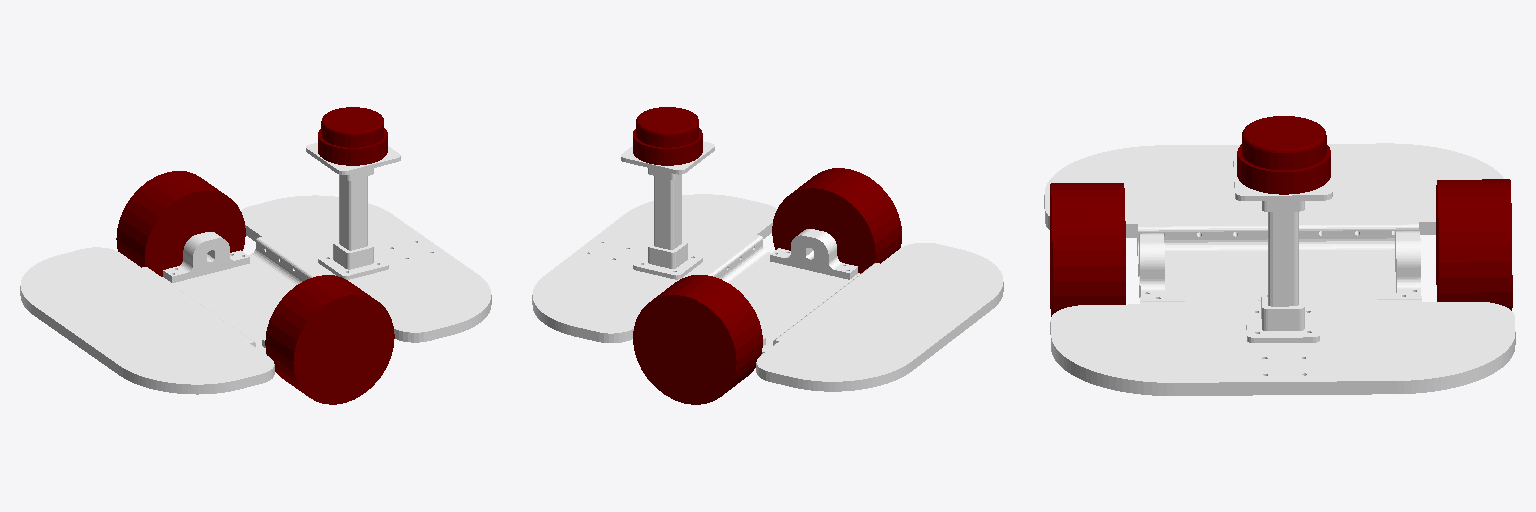
URDF robot description (robot_name):
<?xml version="1.0" ?>
<!-- =================================================================================== -->
<!-- |    This document was autogenerated by xacro from my_robo_simulation.xacro       | -->
<!-- |    EDITING THIS FILE BY HAND IS NOT RECOMMENDED                                 | -->
<!-- =================================================================================== -->
<robot name="robot_name">
  <!--===== Defining all colours here =====-->
  <material name="Orange">
    <color rgba="0.5 0.2 0.0 1"/>
  </material>
  <material name="Yellow">
    <color rgba="0.5 0.5 0.0 1"/>
  </material>
  <material name="Red">
    <color rgba="0.5 0.0 0.0 1"/>
  </material>
  <material name="Blue">
    <color rgba="0.0 0.0 0.4 1"/>
  </material>
  <material name="Green">
    <color rgba="0.0 0.4 0.0 1"/>
  </material>
  <material name="White">
    <color rgba="1 1 1 1"/>
  </material>
  <material name="grey">
    <color rgba="0.108 0.122 0.137 1"/>
  </material>
  <!--BASE FOOTPRINT-->
  <link name="base_footprint"/>
  <!--========================================== BASE LINK ==========================================-->
  <link name="base_link">
    <inertial>
      <origin xyz="0 0 0.033" rpy="0 0 0"/>
      <mass value="8.2573504e-01"/>
      <inertia ixx="2.2124416e-03" ixy="-1.2294101e-05" ixz="3.4938785e-05"
               iyy="2.1193702e-03" iyz="-5.0120904e-06"
               izz="2.0064271e-03" />
    </inertial>
    <visual>
      <origin rpy="0 0 0" xyz="0 0 0.033"/>
      <geometry>
        <mesh filename="package://robot/urdf/meshes/base.stl" scale="0.1 0.1 0.1"/>
      </geometry>
      <material name="White"/>
    </visual>
    <collision>
      <origin rpy="0 0 0" xyz="0 0 0.033"/>
      <geometry>
        <mesh filename="package://robot/urdf/meshes/base.stl" scale="0.1 0.1 0.1"/>
      </geometry>
    </collision>
  </link>
  <!--========================================== BASE JOINT ==========================================-->
  <joint name="base_joint" type="fixed">
    <origin rpy="0 0 0.02" xyz="0 0 0.0"/>
    <parent link="base_footprint"/>
    <child link="base_link"/>
    <axis xyz="0 0 0"/>
  </joint>
  <!--========================================== LEFT WHEEL LINK ==========================================-->
  <link name="left_wheel_link">
    <inertial>
      <origin xyz="0 0 0" />
      <mass value="2.8498940e-02" />
      <inertia ixx="1.1175580e-05" ixy="-4.2369783e-11" ixz="-5.9381719e-09"
               iyy="1.1192413e-05" iyz="-1.4400107e-11"
               izz="2.0712558e-05" />
      </inertial>
      <visual>
        <origin xyz="0 0 0" rpy="0 0 0" />
        <geometry>
          <cylinder length="0.06" radius="0.065" />
        </geometry>
        <material name="Red" />
      </visual>
      <collision>
        <origin xyz="0 0 0" rpy="0 0 0" />
        <geometry>
          <cylinder length="0.06" radius="0.065" />
        </geometry>
      </collision>
  </link>
  <gazebo reference="left_wheel_link">
    <mu1>0.9</mu1>
    <mu2>0.9</mu2>
    <kp>100000000</kp>
    <kd>1</kd>
    <minDepth>0.001</minDepth>
    <maxVel>0.1</maxVel>
    <fdir1>1 0 0</fdir1>
    <implicitSpringDamper>true</implicitSpringDamper>
    <material>Gazebo/FlatBlack</material>
  </gazebo>
  <!--========================================== LEFT WHEEL JOINT ==========================================-->
  <joint name="left_wheel_joint" type="continuous">
    <origin rpy="1.571 0.0 0" xyz="0.0 0.158075 0.065"/>
    <parent link="base_link"/>
    <child link="left_wheel_link"/>
    <axis xyz="0 0 -1"/>
    <limit effort="100.0" velocity="100.0"/>
    <joint_properties damping="0.0" fiction="0.0"/>
  </joint>
  <!--transmission name="left_wheel_trans" type="SimpleTransmission">
    <type>transmission_interface/SimpleTransmission</type>
    <actuator name="left_wheel_motor">
      <mechanicalReduction>1</mechanicalReduction>
    </actuator>
    <joint name="left_wheel_joint">
      <hardwareInterface>VelocityJointInterface</hardwareInterface>
    </joint>
  </transmission-->
  <!--========================================== RIGHT WHEEL LINK ==========================================-->
  <link name="right_wheel_link">
    <inertial>
      <origin xyz="0 0 0" />
      <mass value="2.8498940e-02" />
      <inertia ixx="1.1175580e-05" ixy="-4.2369783e-11" ixz="-5.9381719e-09"
               iyy="1.1192413e-05" iyz="-1.4400107e-11"
               izz="2.0712558e-05" />
      </inertial>
      <visual>
        <origin xyz="0 0 0" rpy="0 0 0" />
        <geometry>
          <cylinder length="0.06" radius="0.065" />
        </geometry>
        <material name="Red" />
      </visual>
      <collision>
        <origin xyz="0 0 0" rpy="0 0 0" />
        <geometry>
          <cylinder length="0.06" radius="0.065" />
        </geometry>
      </collision>
  </link>
  <gazebo reference="right_wheel_link">
    <mu1>0.9</mu1>
    <mu2>0.9</mu2>
    <kp>100000000</kp>
    <kd>1</kd>
    <minDepth>0.001</minDepth>
    <maxVel>0.1</maxVel>
    <fdir1>1 0 0</fdir1>
    <implicitSpringDamper>true</implicitSpringDamper>
    <material>Gazebo/FlatBlack</material>
  </gazebo>
  <!--========================================== RIGHT WHEEL JOINT ==========================================-->
  <joint name="right_wheel_joint" type="continuous">
    <origin rpy="-1.571 0.0 0" xyz="0.0 -0.158075 0.065"/>
    <parent link="base_link"/>
    <child link="right_wheel_link"/>
    <axis xyz="0 0 1"/>
    <limit effort="100.0" velocity="100.0"/>
    <joint_properties damping="0.0" fiction="0.0"/>
  </joint>
  <!--transmission name="right_wheel_trans" type="SimpleTransmission">
  <type>transmission_interface/SimpleTransmission</type>
  <actuator name="right_wheel_motor">
    <mechanicalReduction>1</mechanicalReduction>
  </actuator>
  <joint name="right_wheel_joint">
    <hardwareInterface>VelocityJointInterface</hardwareInterface>
  </joint>
</transmission-->
  <!--=============================================== FRONT CASTOR WHEEL LINK ===============================================-->
  <link name="front_castor_wheel_link">
    <collision>
      <origin xyz="0 0.025 0" rpy="0 0 0"/>
      <geometry>
        <box size="0.030 0.009 0.020"/>
      </geometry>
    </collision>

    <inertial>
      <origin xyz="0 0 0" />
      <mass value="0.005" />
      <inertia ixx="0.001" ixy="0.0" ixz="0.0"
               iyy="0.001" iyz="0.0"
               izz="0.001" />
    </inertial>
  </link>
  <gazebo reference="front_castor_wheel_link">
    <mu1>0.1</mu1>
    <mu2>0.1</mu2>
    <kp>1000000.0</kp>
    <kd>100.0</kd>
    <minDepth>0.001</minDepth>
    <maxVel>1.0</maxVel>
    <material>Gazebo/FlatBlack</material>
  </gazebo>
  <!--============================================ FRONT CASTOR WHEEL JOINT ============================================-->
  <joint name="front_castor_wheel_joint" type="fixed">
    <origin rpy="0.0 0.0 0.0" xyz="0.2 0.0 0.0252"/>
    <parent link="base_link"/>
    <child link="front_castor_wheel_link"/>
    <axis xyz="0 0 0"/>
  </joint>
  <!--=============================================== REAR CASTOR WHEEL LINK ===============================================-->
  <link name="rear_castor_wheel_link">
    <collision>
      <origin xyz="0 0.025 0" rpy="0 0 0"/>
      <geometry>
        <box size="0.030 0.009 0.020"/>
      </geometry>
    </collision>

    <inertial>
      <origin xyz="0 0 0" />
      <mass value="0.005" />
      <inertia ixx="0.001" ixy="0.0" ixz="0.0"
               iyy="0.001" iyz="0.0"
               izz="0.001" />
    </inertial>
  </link>
  <gazebo reference="rear_castor_wheel_link">
    <mu1>0.1</mu1>
    <mu2>0.1</mu2>
    <kp>1000000.0</kp>
    <kd>100.0</kd>
    <minDepth>0.001</minDepth>
    <maxVel>1.0</maxVel>
    <material>Gazebo/FlatBlack</material>
  </gazebo>
  <!--============================================ REAR CASTOR WHEEL JOINT ============================================-->
  <joint name="rear_castor_wheel_joint" type="fixed">
    <origin rpy="0.0 0.0 0.0" xyz="-0.2 0.0 0.0252"/>
    <parent link="base_link"/>
    <child link="rear_castor_wheel_link"/>
    <axis xyz="0 0 0"/>
  </joint>
  <!--========================================== LASER LINK ==========================================-->
  <link name="laser_link">
    <inertial>
      <mass value="0.114" />
      <origin xyz="0 0 0" />
      <inertia ixx="0.001" ixy="0.0" ixz="0.0"
               iyy="0.001" iyz="0.0"
               izz="0.001" />
    </inertial>
    <visual>
      <origin rpy="0 0 0" xyz="0 0 0"/>
      <geometry>
        <mesh filename="package://robot/urdf/meshes/ridar.stl" scale="0.1 0.1 0.1"/>
      </geometry>
      <material name="Red"/>
    </visual>
    <collision>
      <origin rpy="0 0 0" xyz="0 0 0"/>
      <geometry>
        <mesh filename="package://robot/urdf/meshes/ridar.stl" scale="0.1 0.1 0.1"/>
      </geometry>
    </collision>
  </link>
  <!--========================================== LASER JOINT ==========================================-->
  <joint name="laser_joint" type="fixed">
    <origin rpy="0.0 0.0 0" xyz="0.125 0.0 0.2"/>
    <parent link="base_link"/>
    <child link="laser_link"/>
    <axis xyz="0 0 0"/>
  </joint>
  <!--========================================== GAZEBO TAGS ==========================================-->
  <gazebo reference="base_link">
    <material>Gazebo/Blue</material>
  </gazebo>
  <gazebo reference="robot_body_link">
    <material>Gazebo/Orange</material>
  </gazebo>
  <gazebo reference="right_wheel_link">
    <material>Gazebo/Red</material>
  </gazebo>
  <gazebo reference="left_wheel_link">
    <material>Gazebo/Red</material>
  </gazebo>
  <gazebo reference="front_castor_wheel_link">
    <material>Gazebo/Red</material>
  </gazebo>
  <gazebo reference="rear_castor_wheel_link">
    <material>Gazebo/Red</material>
  </gazebo>
  <gazebo reference="laser_link">
    <material>Gazebo/Green</material>
  </gazebo>
  <!--========================================== DIFF DRIVE PLUGIN - GAZEBO ==========================================-->
  <gazebo>
    <plugin filename="libgazebo_ros_diff_drive.so" name="differential_drive_controller">
      <alwaysOn>true</alwaysOn>
      <!-- Plugin update rate in Hz -->
      <updateRate>100</updateRate>
      <!-- Name of left joint, defaults to `left_joint` -->
      <leftJoint>left_wheel_joint</leftJoint>
      <!-- Name of right joint, defaults to `right_joint` -->
      <rightJoint>right_wheel_joint</rightJoint>
      <!-- The distance from the center of one wheel to the other, in meters, defaults to 0.34 m -->
      <wheelSeparation>0.31615</wheelSeparation>
      <!-- Diameter of the wheels, in meters, defaults to 0.15 m -->
      <wheelDiameter>0.13</wheelDiameter>
      <!-- Maximum torque which the wheels can produce, in Nm, defaults to 5 Nm -->
      <wheelTorque>10</wheelTorque>
      <!-- Topic to receive geometry_msgs/Twist message commands, defaults to `cmd_vel` -->
      <commandTopic>cmd_vel</commandTopic>
      <!-- Topic to publish nav_msgs/Odometry messages, defaults to `odom` -->
      <odometryTopic>odom</odometryTopic>
      <!-- Odometry frame, defaults to `odom` -->
      <odometryFrame>odom</odometryFrame>
      <!-- Robot frame to calculate odometry from, defaults to `base_footprint` -->
      <robotBaseFrame>base_footprint</robotBaseFrame>
      <!-- Odometry source, 0 for ENCODER, 1 for WORLD, defaults to WORLD -->
      <odometrySource>1</odometrySource>
      <!-- Set to true to publish transforms for the wheel links, defaults to false -->
      <publishWheelTF>false</publishWheelTF>
      <!-- Set to true to publish transforms for the odometry, defaults to true -->
      <publishOdom>true</publishOdom>
      <!-- Set to true to publish sensor_msgs/JointState on /joint_states for the wheel joints, defaults to false -->
      <publishWheelJointState>false</publishWheelJointState>
      <!-- Set to true to swap right and left wheels, defaults to true -->
      <legacyMode>false</legacyMode>
    </plugin>
  </gazebo>
  <!--========================================== LIDAR PLUGIN - GAZEBO ==========================================-->
  <!--Sample size of 4000 (original value of RPLidarA1M8) gives an error-->
  <gazebo reference="laser_link">
    <!--sensor type="gpu_ray" name="laser"-->
    <sensor name="laser" type="ray">
      <pose>0 0 0 0 0 0</pose>
      <visualize>false</visualize>
      <update_rate>40</update_rate>
      <ray>
        <scan>
          <horizontal>
            <samples>720</samples>
            <resolution>1</resolution>
            <min_angle>0</min_angle>
            <max_angle>6.28</max_angle>
          </horizontal>
        </scan>
        <range>
          <min>0.1</min>
          <max>6</max>
          <resolution>0.1</resolution>
        </range>
      </ray>
      <!--plugin name="gpu_laser" filename="libgazebo_ros_gpu_laser.so"-->
      <plugin filename="libgazebo_ros_laser.so" name="gpu_laser">
        <topicName>/scan</topicName>
        <frameName>laser_link</frameName>
      </plugin>
    </sensor>
  </gazebo>
  <!--========================================== JOINT STATE PUBLISHER PLUGIN - GAZEBO ==========================================-->
  <!--gazebo>
        <plugin name="joint_state_publisher"
                filename="libgazebo_ros_joint_state_publisher.so">
            <jointName>left_wheel_joint, right_wheel_joint, castor_wheel_joint</jointName>
        </plugin>
    </gazebo-->
</robot>

--- Facts derived from the render (not from the file) ---
The picture shows the robot from 3 angles, left to right: view 1: azimuth 30°, elevation 25°; view 2: azimuth 150°, elevation 25°; view 3: azimuth 270°, elevation 25°; orthographic projection.
Robot: robot_name — 7 links, 6 joints (2 continuous, 4 fixed); root link base_footprint; default pose: all joints at 0.
Links seen in each view (by area): view 1: base_link, right_wheel_link, left_wheel_link, laser_link; view 2: base_link, left_wheel_link, right_wheel_link, laser_link; view 3: base_link, left_wheel_link, right_wheel_link, laser_link.
Link boxes in pixels (x1=…): base_link: x1=20, y1=143, x2=491, y2=394; right_wheel_link: x1=265, y1=275, x2=394, y2=404; left_wheel_link: x1=116, y1=171, x2=245, y2=276; laser_link: x1=318, y1=107, x2=387, y2=165; base_link: x1=532, y1=141, x2=1003, y2=391; left_wheel_link: x1=633, y1=275, x2=762, y2=404; right_wheel_link: x1=772, y1=168, x2=901, y2=273; laser_link: x1=633, y1=107, x2=702, y2=165; base_link: x1=1044, y1=143, x2=1515, y2=395; left_wheel_link: x1=1436, y1=179, x2=1512, y2=310; right_wheel_link: x1=1050, y1=183, x2=1125, y2=316; laser_link: x1=1237, y1=116, x2=1330, y2=194.
Size in the robot's own frame: 0.4635 by 0.3854 by 0.2389 metres.
Meshes: 2 distinct files referenced, 2 mesh visuals loaded (2 binary STL).
